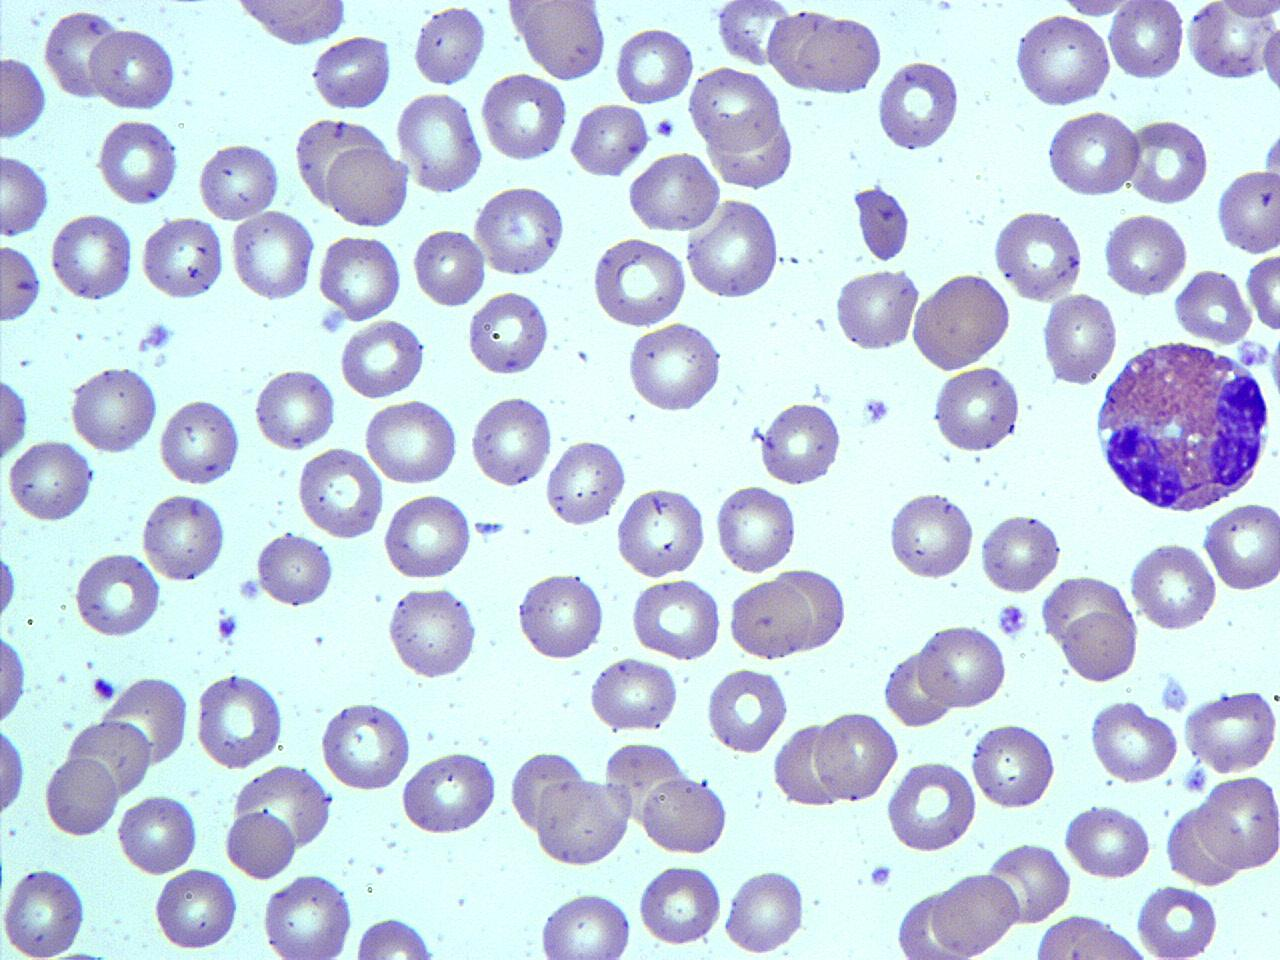Platelets: (994, 600, 1028, 640), (141, 317, 176, 350), (860, 392, 892, 427), (467, 516, 508, 541), (1181, 765, 1209, 795), (318, 306, 347, 334), (91, 674, 117, 703), (216, 612, 241, 642), (866, 862, 894, 888), (236, 576, 262, 604), (654, 115, 676, 140)
RBC: (222, 762, 336, 874), (682, 196, 784, 301), (911, 272, 1012, 372), (1012, 12, 1112, 109), (384, 582, 480, 682), (317, 696, 413, 796), (626, 320, 726, 415), (590, 233, 690, 328), (193, 670, 285, 772), (534, 774, 634, 868), (396, 90, 485, 194), (990, 207, 1085, 303), (472, 184, 568, 278), (884, 757, 978, 853), (1044, 107, 1142, 199), (614, 485, 708, 580), (66, 362, 159, 457), (400, 748, 500, 837), (363, 396, 460, 486), (914, 620, 1008, 712), (514, 569, 606, 663), (259, 870, 354, 960), (886, 487, 976, 582), (812, 708, 899, 806), (294, 112, 384, 206), (688, 64, 782, 153), (294, 446, 383, 541), (0, 864, 88, 960), (229, 208, 316, 304), (139, 488, 227, 584), (469, 392, 554, 490), (72, 550, 163, 640), (873, 58, 962, 152), (1198, 772, 1280, 874), (1181, 688, 1277, 774), (713, 481, 798, 578), (381, 490, 472, 581), (932, 363, 1022, 454), (968, 720, 1056, 812), (481, 70, 568, 162), (702, 664, 790, 756), (1128, 541, 1218, 630), (833, 264, 922, 354), (88, 24, 176, 115), (4, 438, 95, 526), (48, 210, 134, 304), (626, 150, 722, 234), (720, 866, 808, 956), (1039, 288, 1119, 388), (317, 230, 403, 323), (464, 289, 552, 378), (153, 863, 240, 954), (1086, 698, 1178, 784), (158, 394, 242, 488), (96, 116, 180, 208), (630, 576, 722, 661), (588, 654, 682, 736), (1200, 498, 1280, 595), (636, 861, 724, 949), (338, 316, 428, 400), (931, 870, 1020, 956), (114, 790, 200, 878), (639, 772, 730, 856), (763, 7, 850, 94), (139, 216, 225, 304), (726, 575, 814, 659), (760, 398, 844, 488), (253, 364, 337, 454), (544, 438, 627, 528), (987, 839, 1073, 925), (196, 138, 282, 224), (1103, 211, 1187, 298), (518, 0, 608, 83), (1126, 117, 1208, 207), (976, 511, 1065, 594), (42, 7, 120, 102), (705, 112, 797, 191), (1187, 0, 1275, 83), (798, 12, 882, 97), (324, 145, 407, 229), (536, 888, 634, 959), (1063, 803, 1151, 881), (612, 24, 694, 107), (308, 32, 394, 111), (410, 3, 489, 88), (1134, 882, 1220, 960), (567, 101, 653, 178), (774, 566, 848, 654), (254, 529, 334, 611), (771, 718, 842, 810), (1173, 265, 1253, 346), (1107, 0, 1185, 82), (412, 225, 488, 310), (42, 754, 117, 838), (1024, 912, 1154, 959), (1061, 607, 1137, 685), (224, 805, 299, 881), (1215, 166, 1279, 257), (850, 182, 912, 264), (0, 150, 51, 240), (0, 54, 50, 142), (352, 912, 438, 958), (0, 242, 45, 324), (0, 370, 30, 470), (0, 628, 28, 730), (1245, 251, 1279, 335), (0, 724, 27, 820), (1054, 0, 1142, 20), (1259, 18, 1280, 100), (0, 546, 19, 627), (1213, 0, 1280, 21)
WBC: (1090, 334, 1276, 516), (229, 762, 333, 880), (625, 318, 726, 415), (384, 580, 481, 682), (915, 272, 1014, 370), (194, 669, 286, 771), (399, 746, 502, 838), (992, 203, 1085, 302), (535, 776, 633, 870), (231, 204, 321, 305), (397, 89, 487, 190), (791, 6, 886, 97), (476, 190, 569, 279), (874, 58, 962, 153), (706, 662, 794, 754), (510, 2, 610, 84), (306, 30, 396, 111), (1026, 913, 1156, 959), (226, 0, 353, 47)
